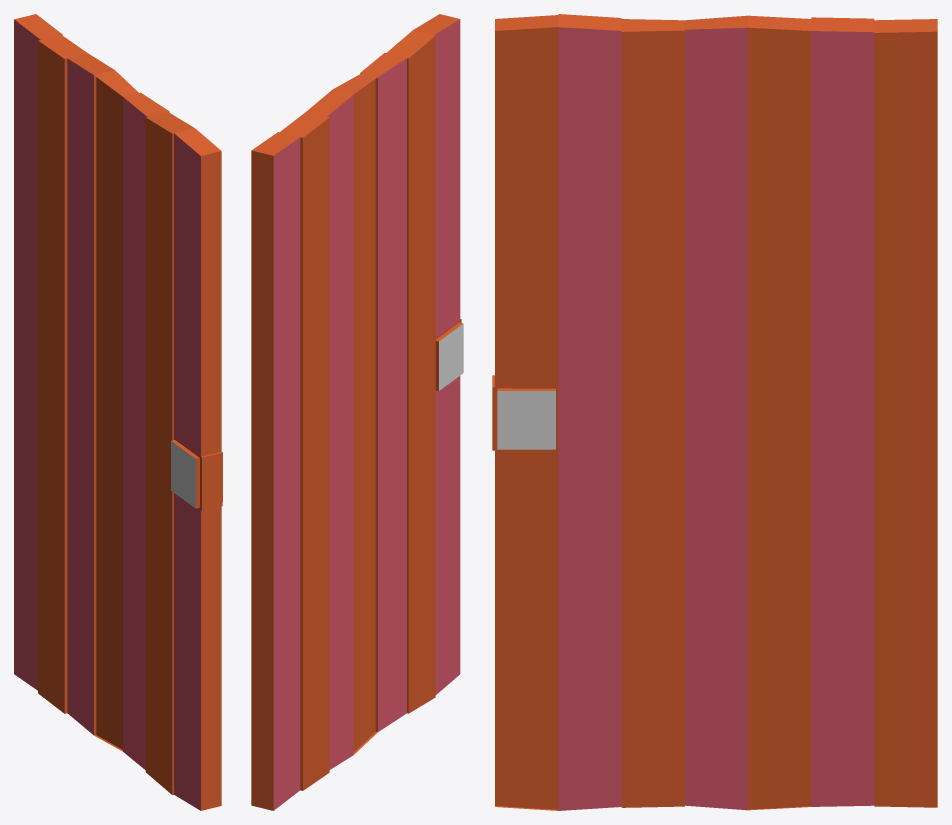
The model's file is Porta.fbx.
The picture shows the model from 3 angles, left to right: view 1: azimuth 30°, elevation 25°; view 2: azimuth 150°, elevation 25°; view 3: azimuth 270°, elevation 25°; orthographic projection. The views are drawn at different scales.
Visible parts, largest first — view 1: Porta; view 2: Porta; view 3: Porta.
Boxes of the visible parts, x1=… form: Porta: x1=14, y1=14, x2=222, y2=810; Porta: x1=251, y1=14, x2=463, y2=810; Porta: x1=492, y1=14, x2=937, y2=810.
Bounding box in the file's own units: 17.35 × 402 × 207.
